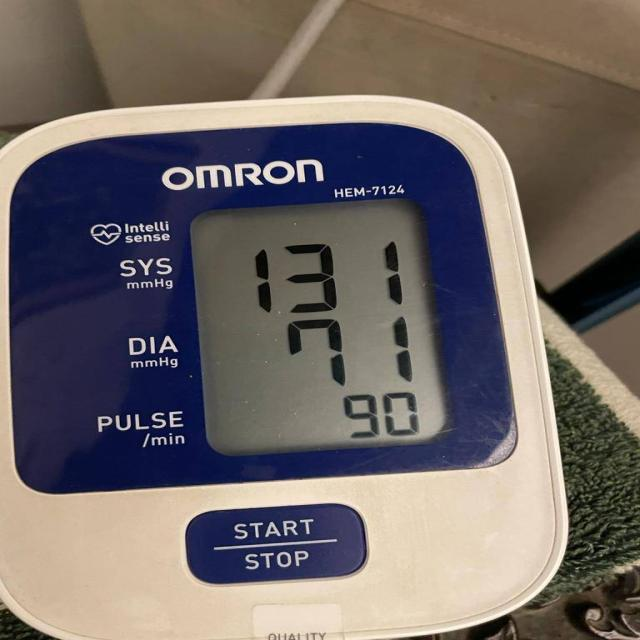bp: (0, 95, 571, 639)
